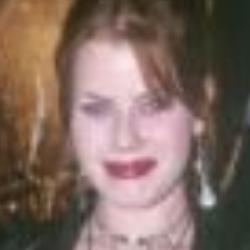face: (37, 1, 232, 242)
